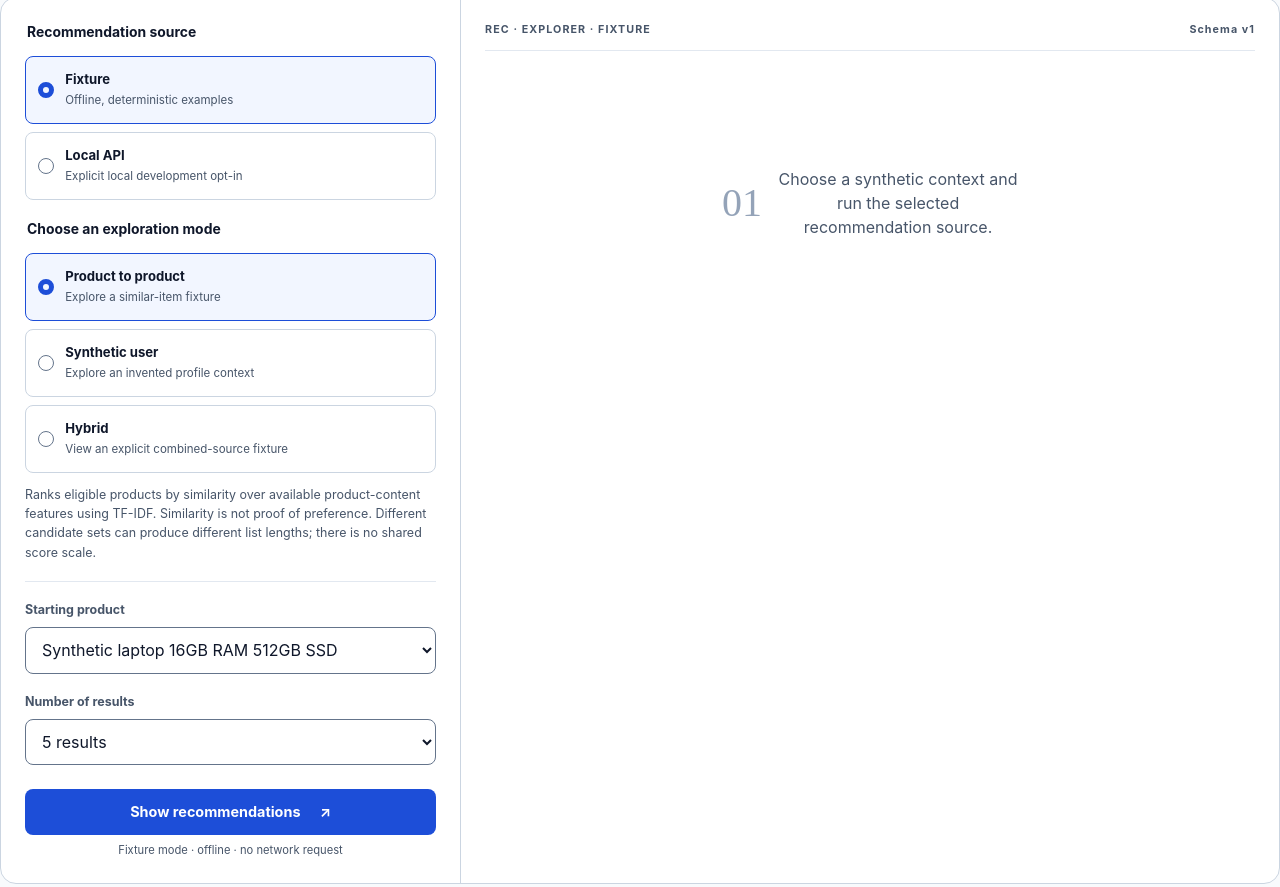
Test: recommendation explorer › keeps fixture mode default and leaves unknown API IDs as IDs
Expected: the text "Fixture mode · offline · no network request" is shown, [118,843,343,857]
Click the radio button labelled "Local API Explicit local development opt-in".
click(231, 166)  # box [25,132,436,200]
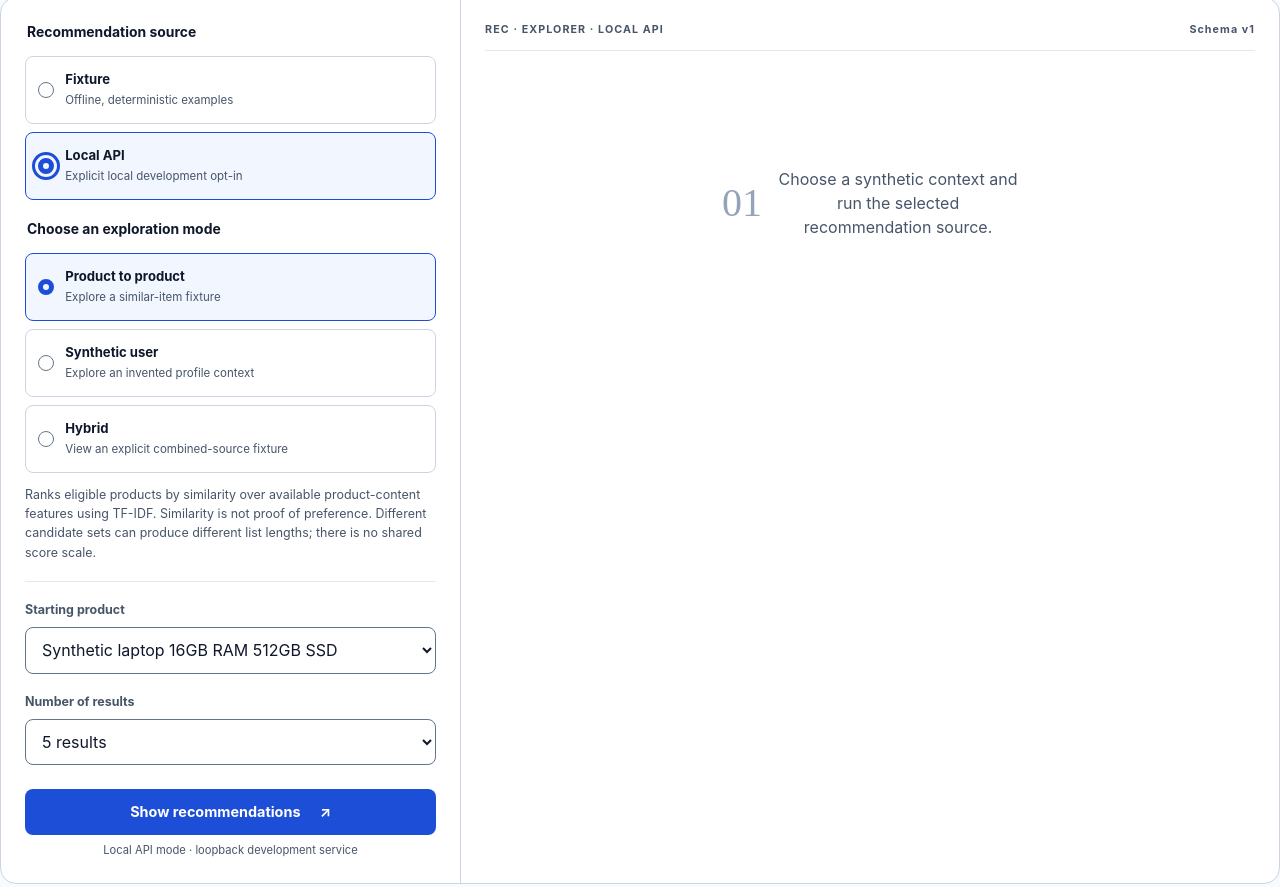
Click the button "Show recommendations ↗".
click(231, 812)  # box [25,789,436,835]
(page scrolled)
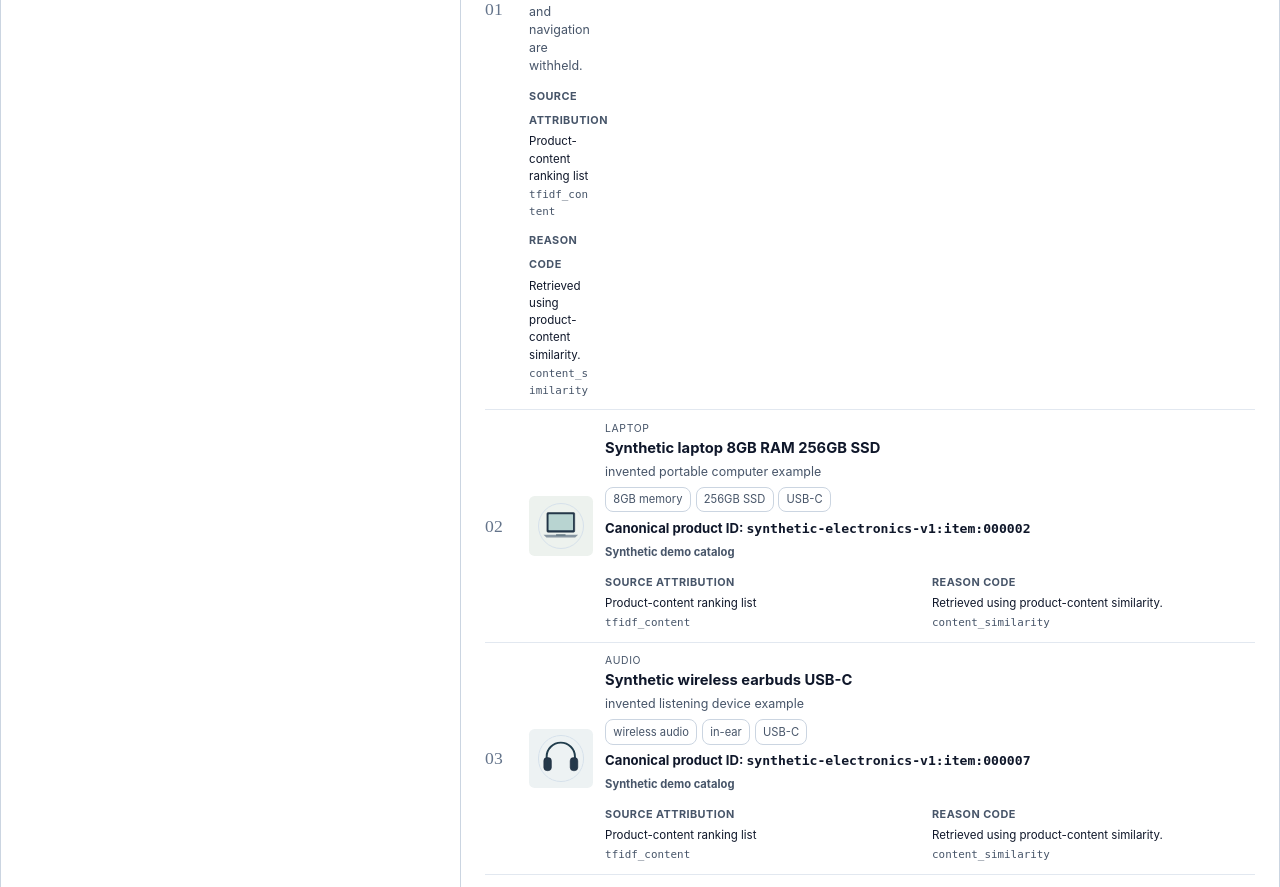
Now the link "Synthetic laptop 8GB RAM 256GB SSD" is shown, box [605,439,880,457]
